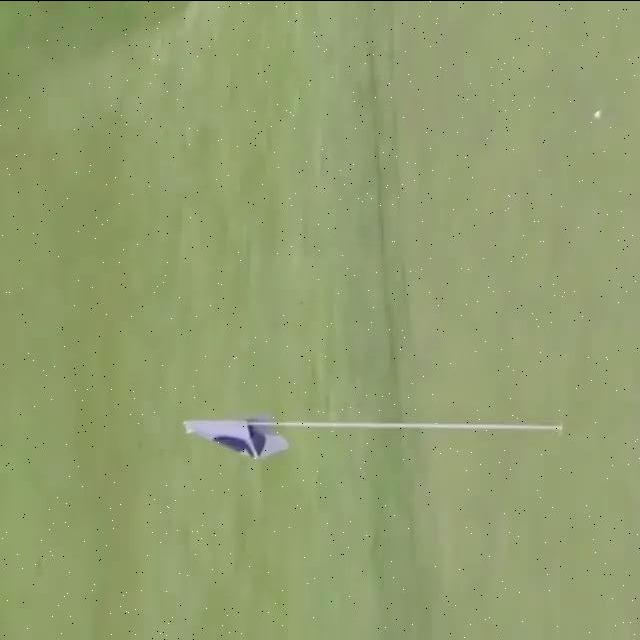GolfBall: (594, 108, 604, 118)
